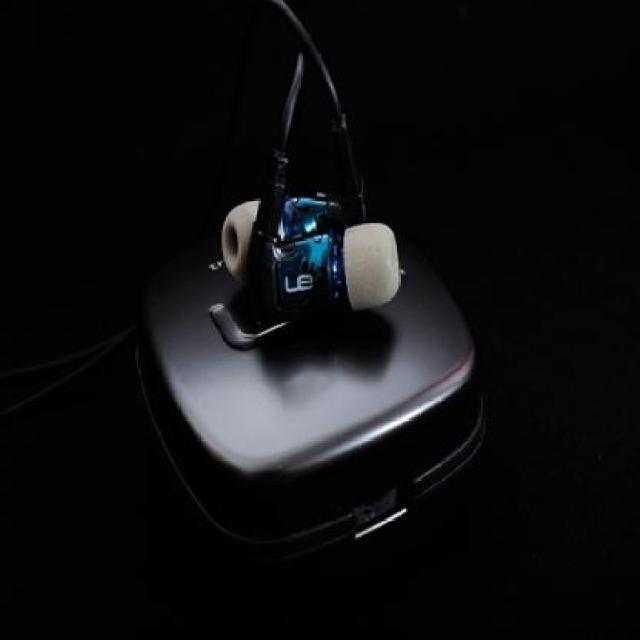earphone: (210, 128, 412, 344)
